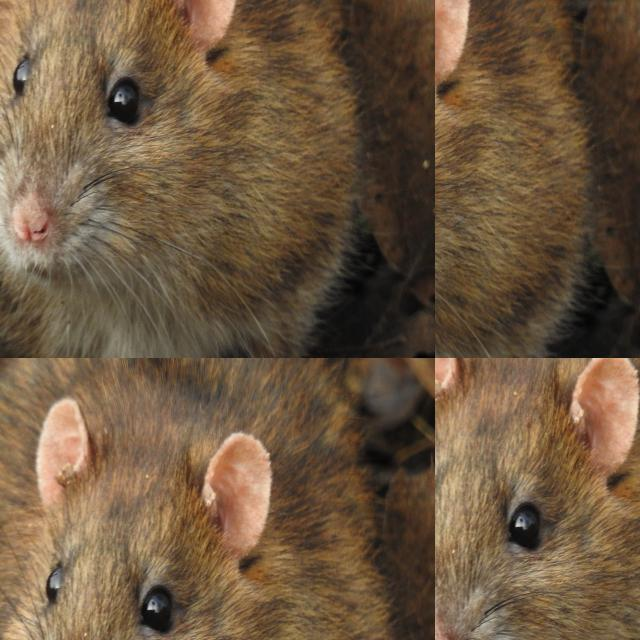rat: (435, 358, 640, 640), (265, 0, 392, 72)
